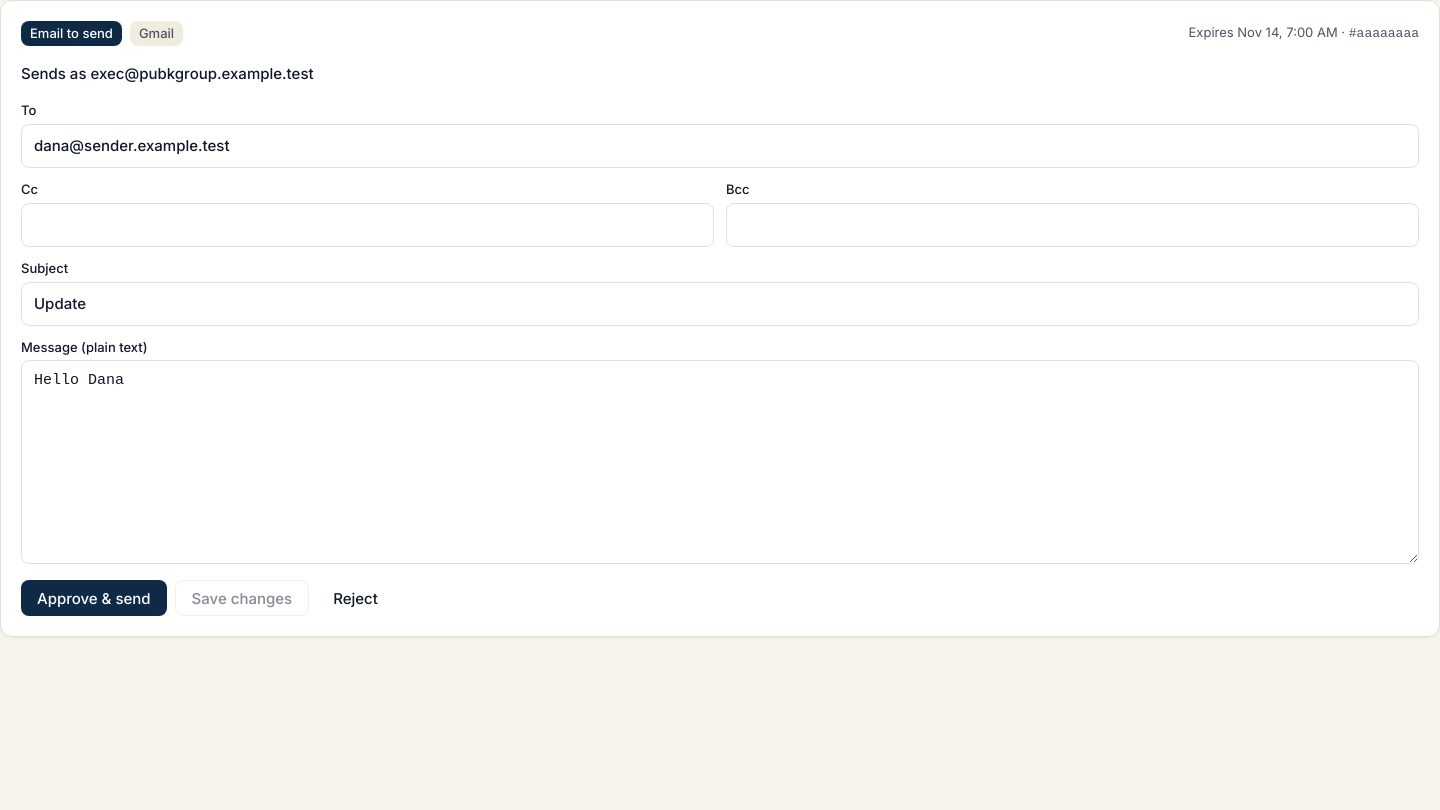
Test: ApprovalCard › an unsaved edit turns Approve off and Save changes on
Replace the text in the field labelled "Subject" with "Changed". click: (720, 304)
box: [21,282,1419,326]
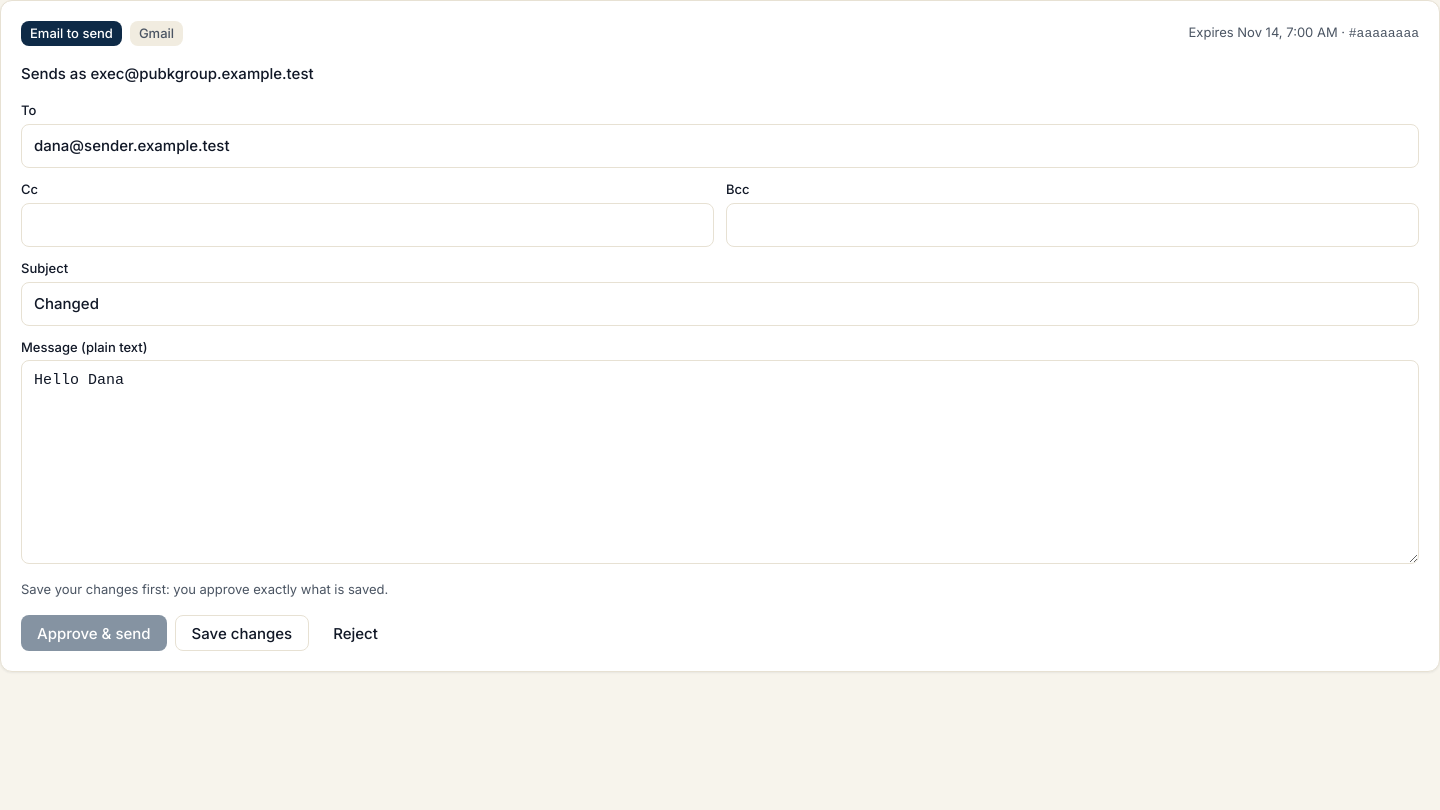
Now the button "Approve & send" is disabled, box [21,615,167,651]
Now the button "Save changes" is enabled, box [175,615,309,651]
